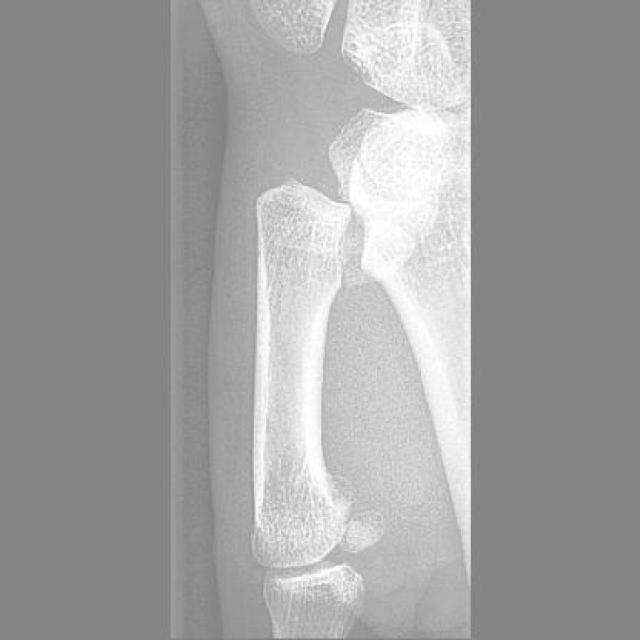Fracture: (299, 200, 410, 311)
